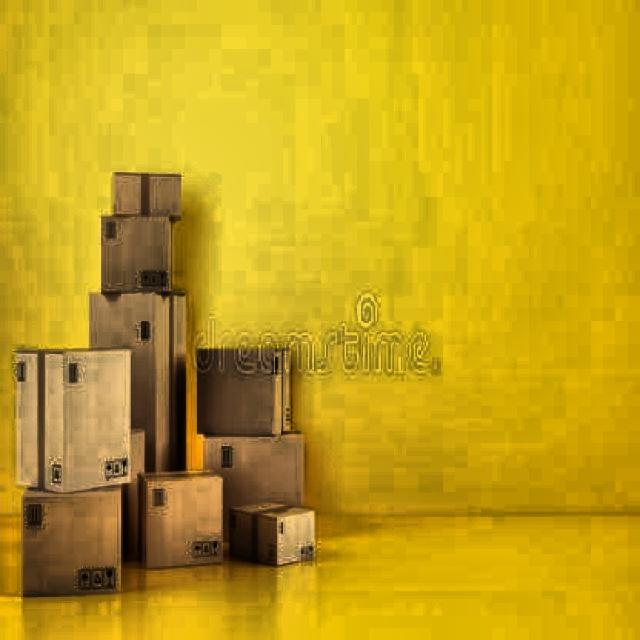Cardbox: (2, 163, 312, 623), (227, 508, 319, 566)
